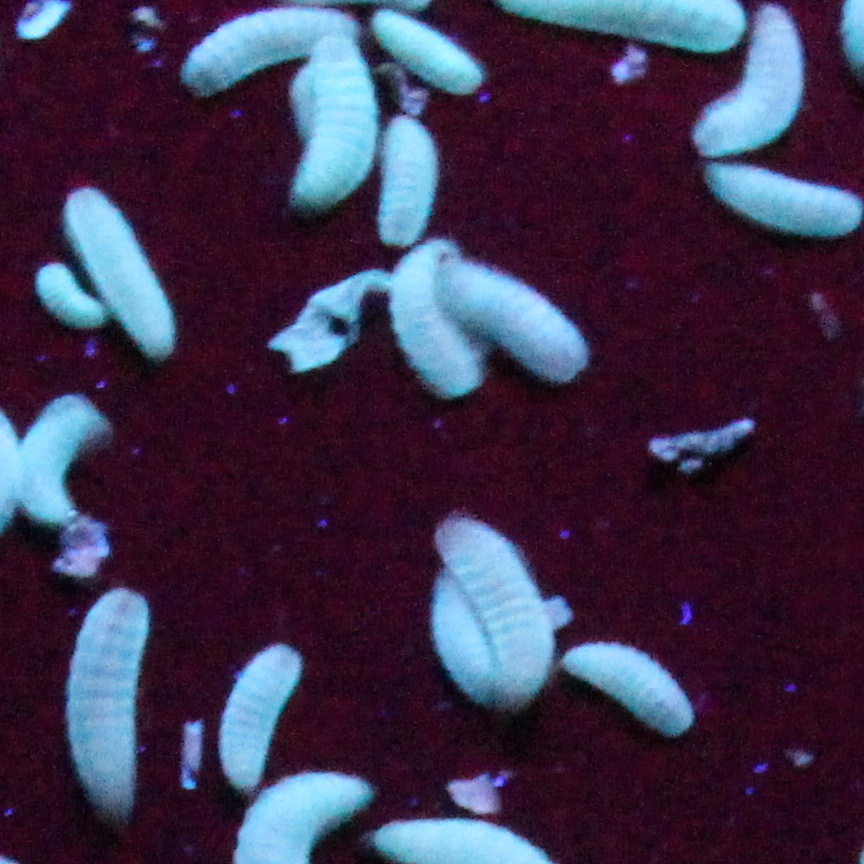larve: (442, 512, 552, 703), (74, 181, 180, 368), (74, 588, 154, 808), (449, 264, 591, 387), (701, 3, 804, 158), (391, 245, 481, 393), (22, 388, 118, 524), (705, 157, 860, 240), (562, 642, 693, 740), (216, 640, 302, 788), (367, 4, 482, 95), (382, 120, 438, 244), (36, 254, 104, 332), (440, 588, 494, 681)
